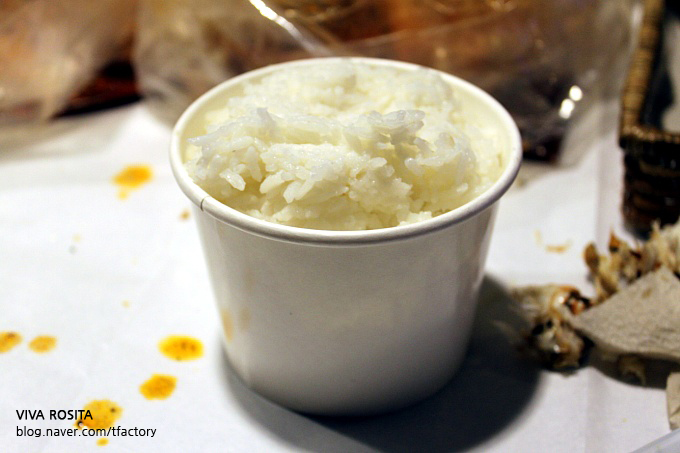plain rice: (227, 81, 436, 231)
